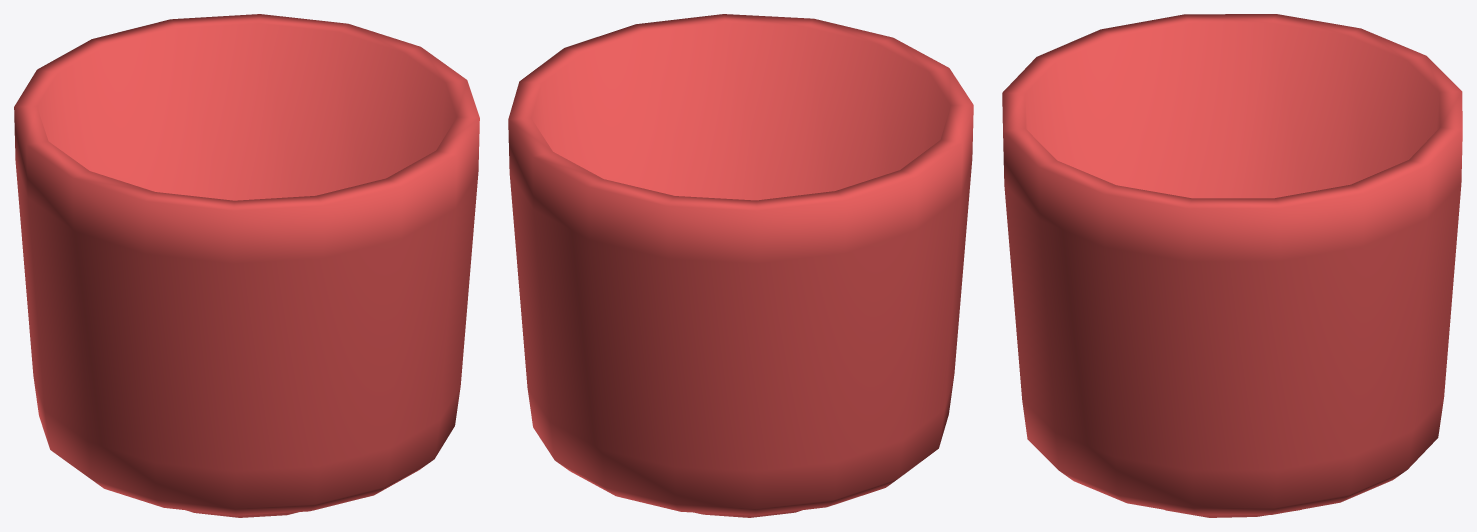
File: SM_Cup_low.fbx
3 renders of one model, left to right at view 1: azimuth 30°, elevation 25°; view 2: azimuth 150°, elevation 25°; view 3: azimuth 270°, elevation 25°, orthographic.
Parts seen in each view (by area): view 1: Cup_low; view 2: Cup_low; view 3: Cup_low.
Boxes of the visible parts, left/top/right/bottom form: Cup_low: left=14, top=14, right=479, bottom=517; Cup_low: left=508, top=14, right=973, bottom=517; Cup_low: left=1002, top=14, right=1462, bottom=517.
Bounding box in the file's own units: 56.88 × 48.63 × 56.88.
